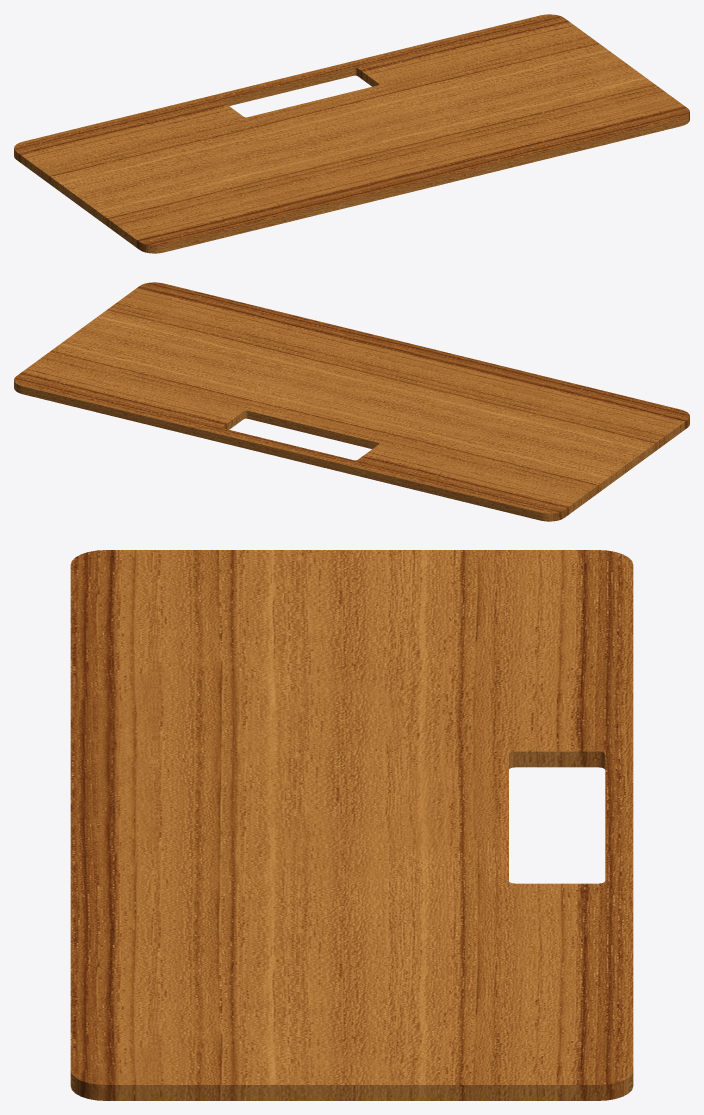
Rendered from TABLE_TOP.gltf.
The picture shows the model from 3 angles, top to bottom: view 1: azimuth 30°, elevation 25°; view 2: azimuth 150°, elevation 25°; view 3: azimuth 270°, elevation 25°; orthographic projection. The views are drawn at different scales.
Visible parts, largest first — view 1: TABLE TOP STD; view 2: TABLE TOP STD; view 3: TABLE TOP STD.
Boxes of the visible parts, x1,y1,x2,y2 form: TABLE TOP STD: (14,14,689,253); TABLE TOP STD: (14,282,689,521); TABLE TOP STD: (70,550,633,1100).
Size of the model in its own units: 1.8 by 0.025 by 0.8.
Materials: 1 (1 with a texture image).
